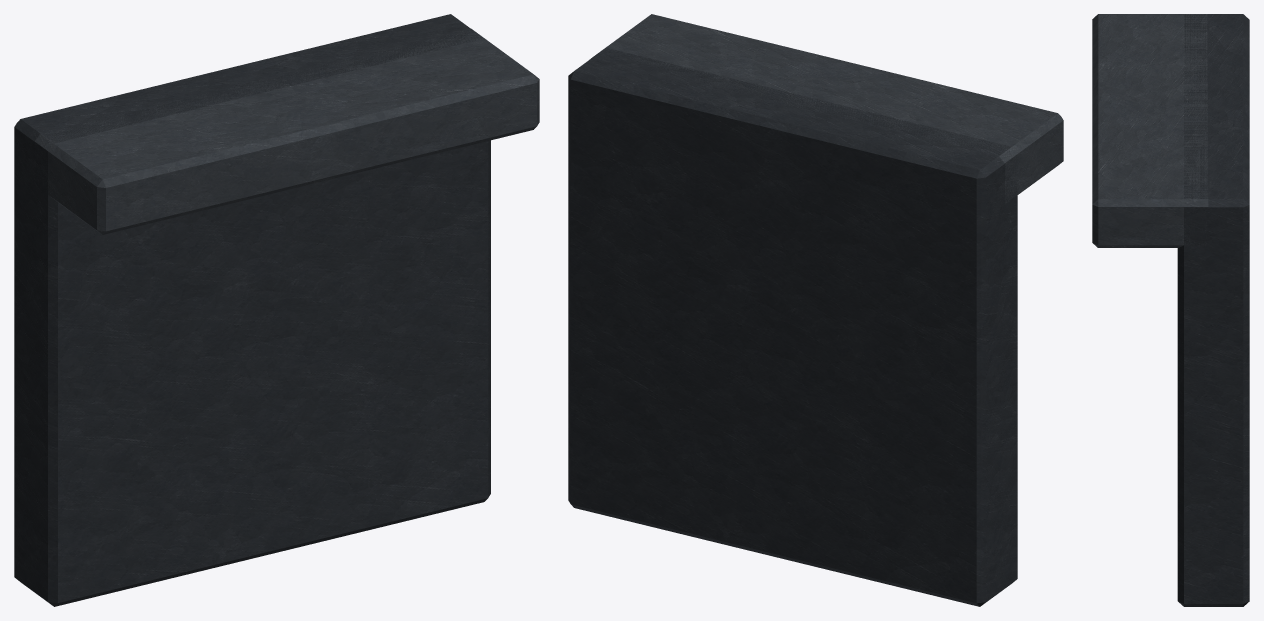
Rendered from train_tender_front.gltf.
3 views of the same model, side by side, from view 1: azimuth 30°, elevation 25°; view 2: azimuth 150°, elevation 25°; view 3: azimuth 270°, elevation 25° (orthographic). The views are drawn at different scales.
Bounding box in the file's own units: 1 × 1 × 0.35.
Materials: 3 (3 with a texture image).
